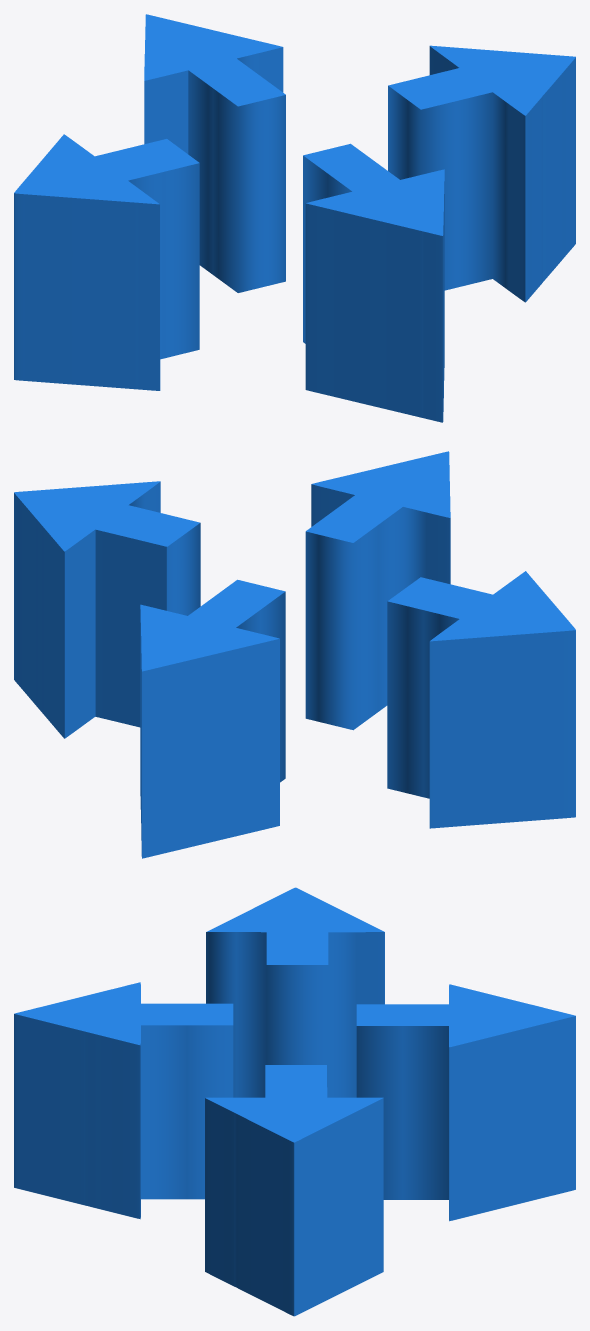
Rendered from setazul.glb.
3 views of the same model, one above another, from view 1: azimuth 30°, elevation 25°; view 2: azimuth 150°, elevation 25°; view 3: azimuth 270°, elevation 25° (orthographic). The views are drawn at different scales.
Parts seen in each view (by area): view 1: Curve.002, Curve.001, Curve.003, Curve; view 2: Curve.002, Curve.001, Curve, Curve.003; view 3: Curve, Curve.003, Curve.001, Curve.002.
Boxes of the visible parts, bbox=[...] form: Curve.002: bbox=[14, 134, 199, 390]; Curve.001: bbox=[388, 45, 575, 302]; Curve.003: bbox=[303, 143, 444, 422]; Curve: bbox=[144, 14, 285, 292]; Curve.002: bbox=[387, 571, 575, 828]; Curve.001: bbox=[14, 481, 200, 738]; Curve: bbox=[140, 579, 285, 858]; Curve.003: bbox=[305, 451, 450, 730]; Curve: bbox=[356, 984, 575, 1221]; Curve.003: bbox=[14, 982, 233, 1219]; Curve.001: bbox=[205, 1065, 383, 1316]; Curve.002: bbox=[206, 887, 384, 1097].
Bounding box in the file's own units: 0.5189 × 0.1649 × 0.4831.
